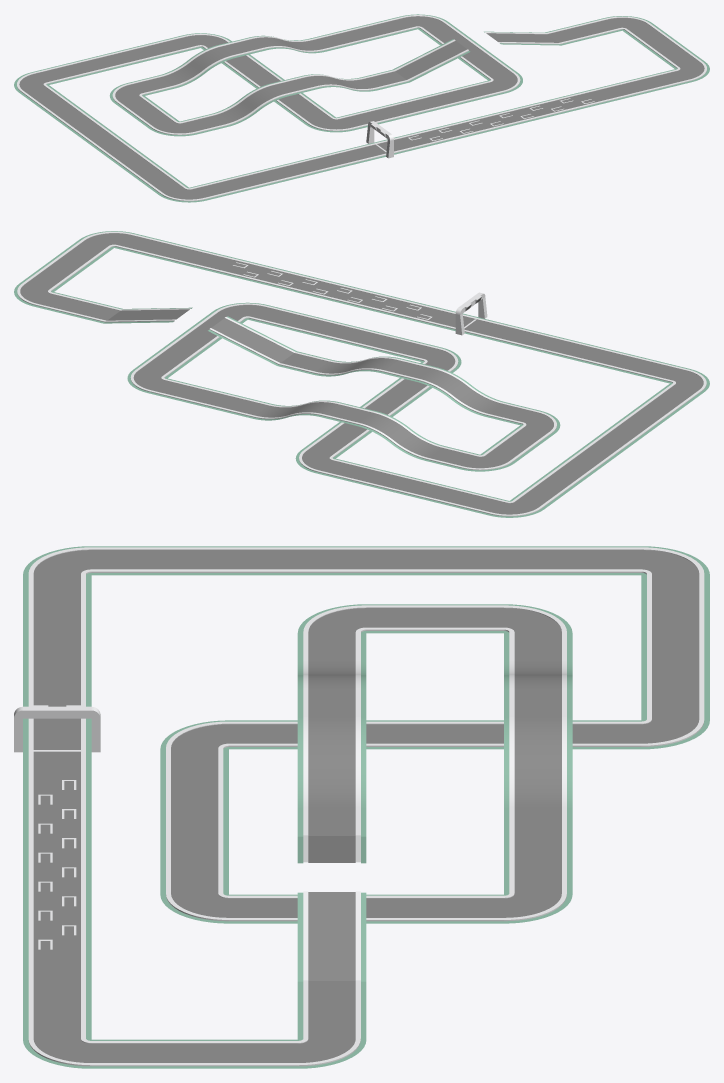
File: kenny_track1glb.glb
The picture shows the model from 3 angles, top to bottom: view 1: azimuth 30°, elevation 25°; view 2: azimuth 150°, elevation 25°; view 3: azimuth 270°, elevation 25°; orthographic projection. The views are drawn at different scales.
Visible parts, largest first — view 1: roadCornerSmall(Clone).011; view 2: roadCornerSmall(Clone).011; view 3: roadCornerSmall(Clone).011.
Boxes of the visible parts, x1=… form: roadCornerSmall(Clone).011: x1=14, y1=14, x2=709, y2=202; roadCornerSmall(Clone).011: x1=14, y1=231, x2=709, y2=517; roadCornerSmall(Clone).011: x1=14, y1=546, x2=709, y2=1068.
Bounding box in the file's own units: 18 × 0.6682 × 10.13.
